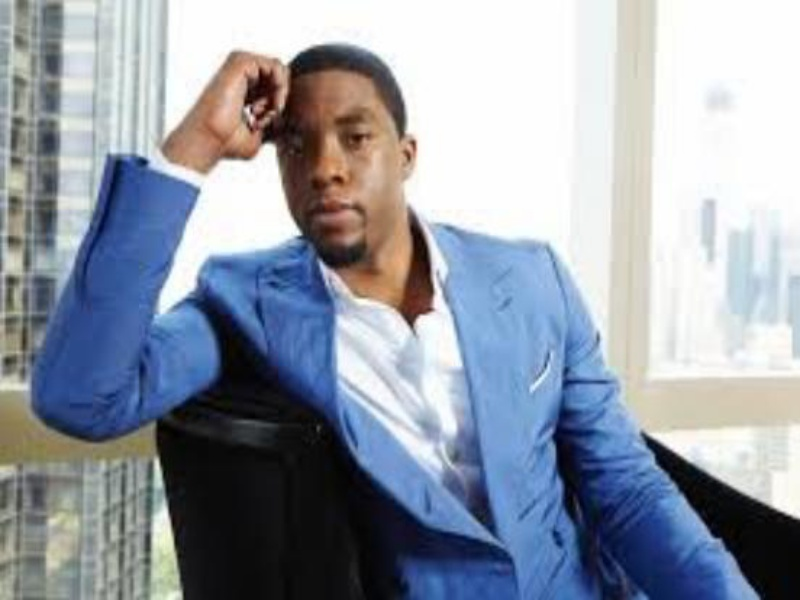TsisyArotava: (262, 38, 426, 267)
